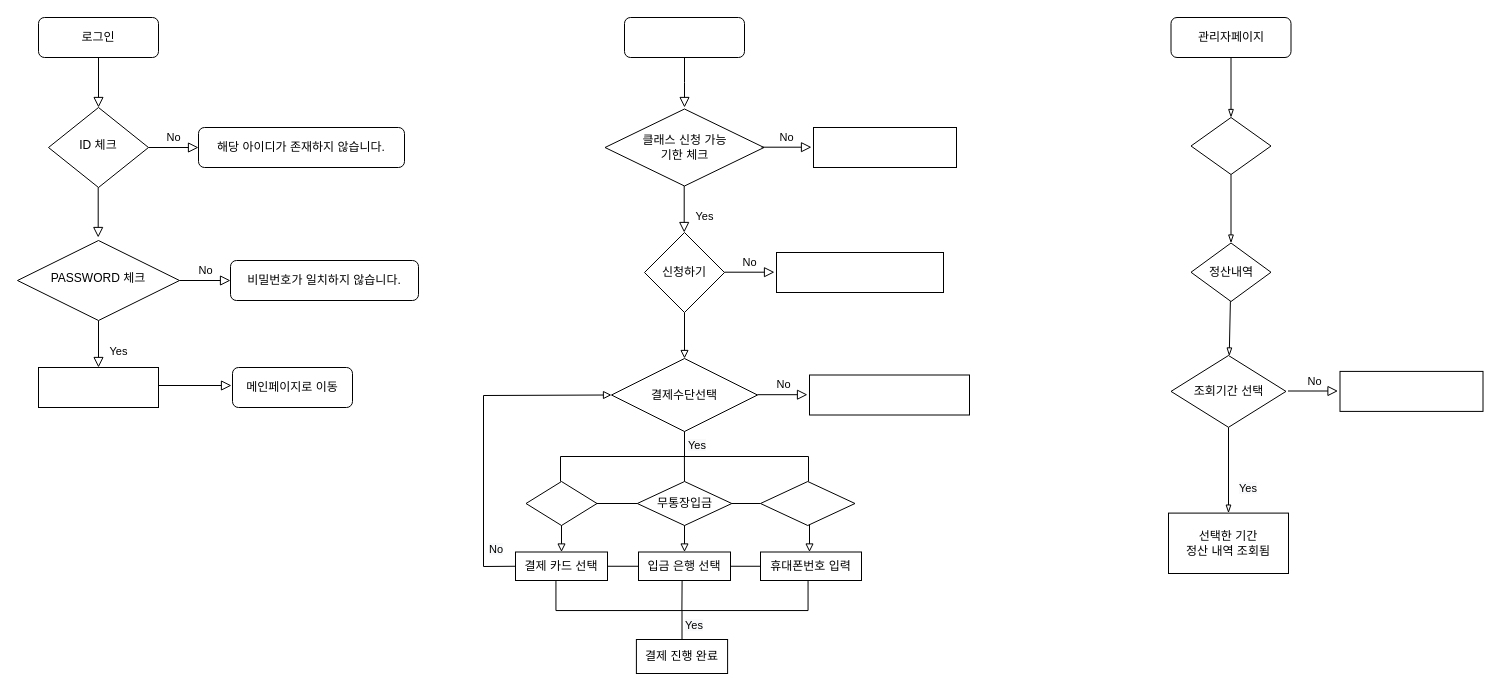
The diagram is 1501 pixels wide and 691 high, and some of its shapes have lost their labels. The shapes that lost their labels are listed below. From the top down, each one's centre as x and y in pixels, then its label:
the point at 684,37: 장바구니
the point at 884,147: 신청하기 비활성화
the point at 1230,145: 매출관리
the point at 860,272: 이전으로 : 이전화면으로 이동
the point at 98,387: 로그인 완료
the point at 889,394: 취소 : 이전화면으로 이동
the point at 1411,390: 정산 내역 조회 불가
the point at 561,503: 카드결제
the point at 807,503: 카카오페이
